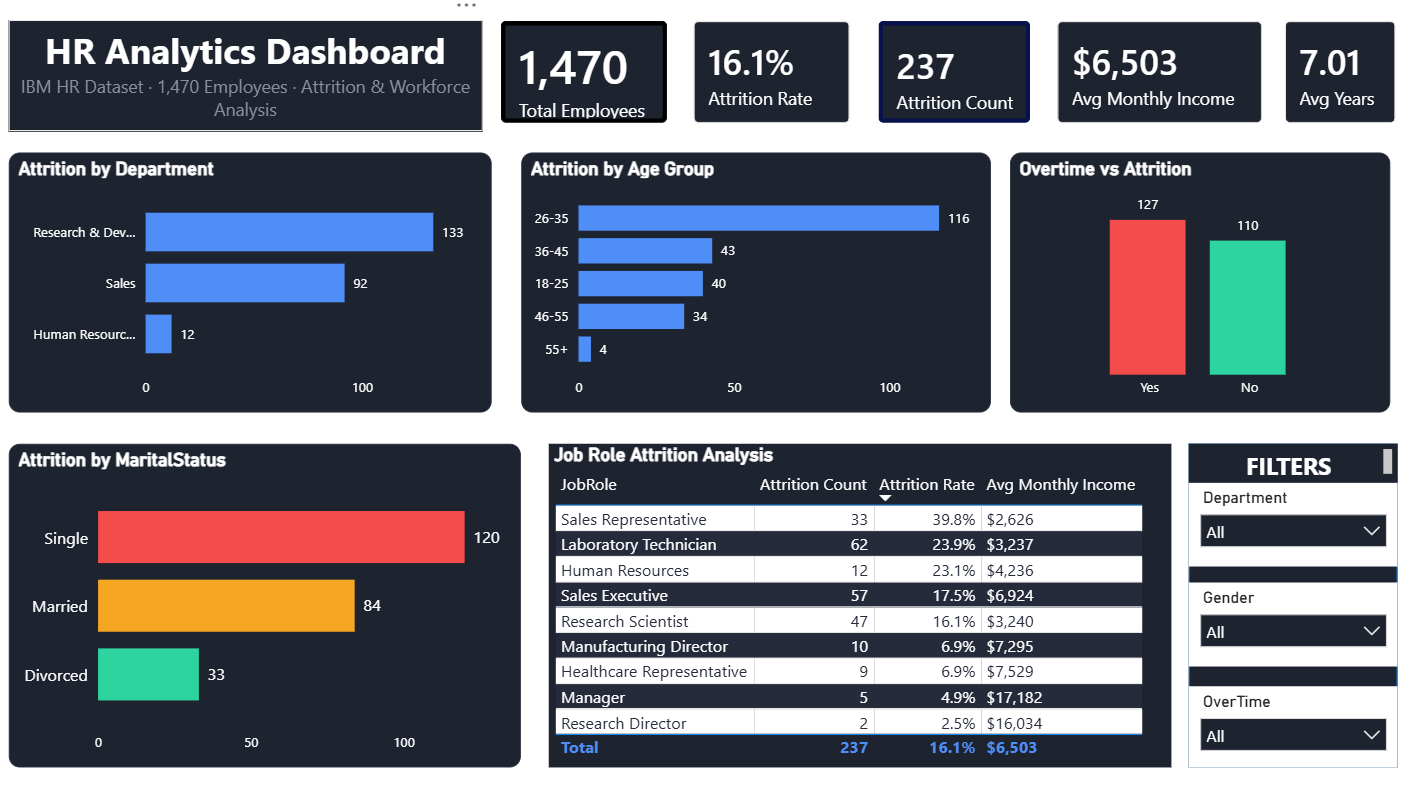

Layout of this report page (visuals, bound fields, positions):
{"tool":"powerbi","page":{"name":"Page 1","canvas":[1280,720],"ordinal":0},"visuals":[{"type":"shape","box":[1075.3,410.4,188.8,292.8],"z":0},{"type":"cardVisual","fields":{"Data":["hr_cleaned.Total Employees"]},"box":[436.4,11.3,184.3,126.6],"z":1000},{"type":"cardVisual","fields":{"Data":["hr_cleaned.Attrition Count"]},"box":[777.9,11.3,171.9,126.6],"z":2000},{"type":"cardVisual","fields":{"Data":["hr_cleaned.Attrition Rate"]},"box":[610.6,11.3,175.3,126.6],"z":3000},{"type":"cardVisual","fields":{"Data":["hr_cleaned.Avg Monthly Income"]},"box":[939.6,11.3,219.3,126.6],"z":4000},{"type":"clusteredBarChart","title":"Attrition by Department","fields":{"Y":["hr_cleaned.Attrition Count"],"Category":["hr_cleaned.Department"]},"box":[7.9,147,436.4,235.2],"z":5000},{"type":"clusteredBarChart","title":"Attrition by Age Group","fields":{"Category":["hr_cleaned.Age_Group"],"Y":["hr_cleaned.Attrition Count"]},"box":[471.5,147,425.1,235.2],"z":6000},{"type":"clusteredColumnChart","title":"Overtime vs Attrition","fields":{"Category":["hr_cleaned.OverTime"],"Y":["hr_cleaned.Attrition Count"]},"box":[913.6,147,343.7,235.2],"z":7000},{"type":"tableEx","title":"Job Role Attrition Analysis","fields":{"Values":["hr_cleaned.JobRole","hr_cleaned.Attrition Count","hr_cleaned.Attrition Rate","hr_cleaned.Avg Monthly Income"]},"box":[496.4,410.4,563.1,292.8],"z":8000},{"type":"clusteredBarChart","title":"Attrition by MaritalStatus","fields":{"Category":["hr_cleaned.MaritalStatus"],"Y":["hr_cleaned.Attrition Count"]},"box":[7.9,410.4,463.6,292.8],"z":9000},{"type":"slicer","fields":{"Values":["hr_cleaned.Department"]},"box":[1075.3,445.5,188.8,75.8],"z":10000},{"type":"slicer","fields":{"Values":["hr_cleaned.Gender"]},"box":[1075.3,535.9,188.8,75.8],"z":11000},{"type":"slicer","fields":{"Values":["hr_cleaned.OverTime"]},"box":[1075.3,629.8,188.8,73.5],"z":12000},{"type":"textbox","box":[7.9,27.1,428.5,100.6],"z":13000},{"type":"cardVisual","fields":{"Data":["Parameter.Avg Years"]},"box":[1145.4,11.3,134.5,126.6],"z":14000},{"type":"textbox","box":[1075.3,410.4,188.8,35.1],"z":15000}]}

Visuals, with their boxes in screenshot pixels (x1, y1, x2, y2), scaled from the page's 1280x720 canvas onto the 1411x785 screenshot:
shape: [x1=1185, y1=447, x2=1393, y2=767]
cardVisual - hr_cleaned.Total Employees: [x1=481, y1=12, x2=684, y2=150]
cardVisual - hr_cleaned.Attrition Count: [x1=858, y1=12, x2=1047, y2=150]
cardVisual - hr_cleaned.Attrition Rate: [x1=673, y1=12, x2=866, y2=150]
cardVisual - hr_cleaned.Avg Monthly Income: [x1=1036, y1=12, x2=1278, y2=150]
"Attrition by Department" clusteredBarChart: [x1=9, y1=160, x2=490, y2=417]
"Attrition by Age Group" clusteredBarChart: [x1=520, y1=160, x2=988, y2=417]
"Overtime vs Attrition" clusteredColumnChart: [x1=1007, y1=160, x2=1386, y2=417]
"Job Role Attrition Analysis" tableEx: [x1=547, y1=447, x2=1168, y2=767]
"Attrition by MaritalStatus" clusteredBarChart: [x1=9, y1=447, x2=520, y2=767]
slicer - hr_cleaned.Department: [x1=1185, y1=486, x2=1393, y2=568]
slicer - hr_cleaned.Gender: [x1=1185, y1=584, x2=1393, y2=667]
slicer - hr_cleaned.OverTime: [x1=1185, y1=687, x2=1393, y2=767]
textbox: [x1=9, y1=30, x2=481, y2=139]
cardVisual - Parameter.Avg Years: [x1=1263, y1=12, x2=1410, y2=150]
textbox: [x1=1185, y1=447, x2=1393, y2=486]
